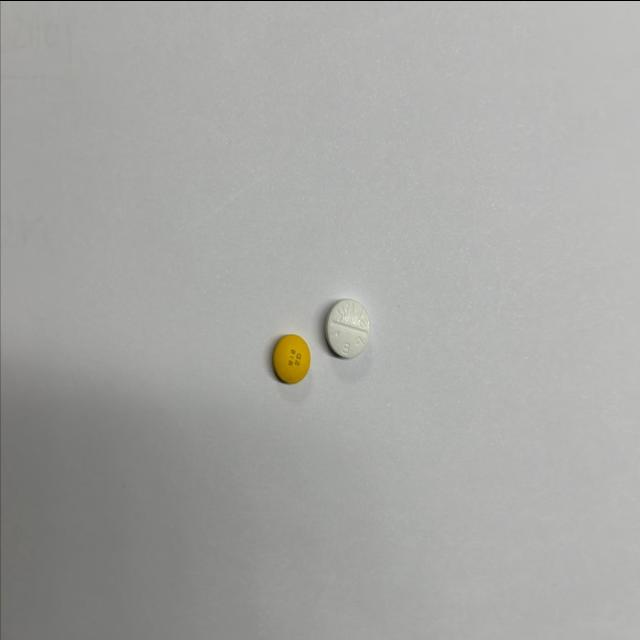Piller: (325, 298, 370, 357), (272, 333, 310, 383)
